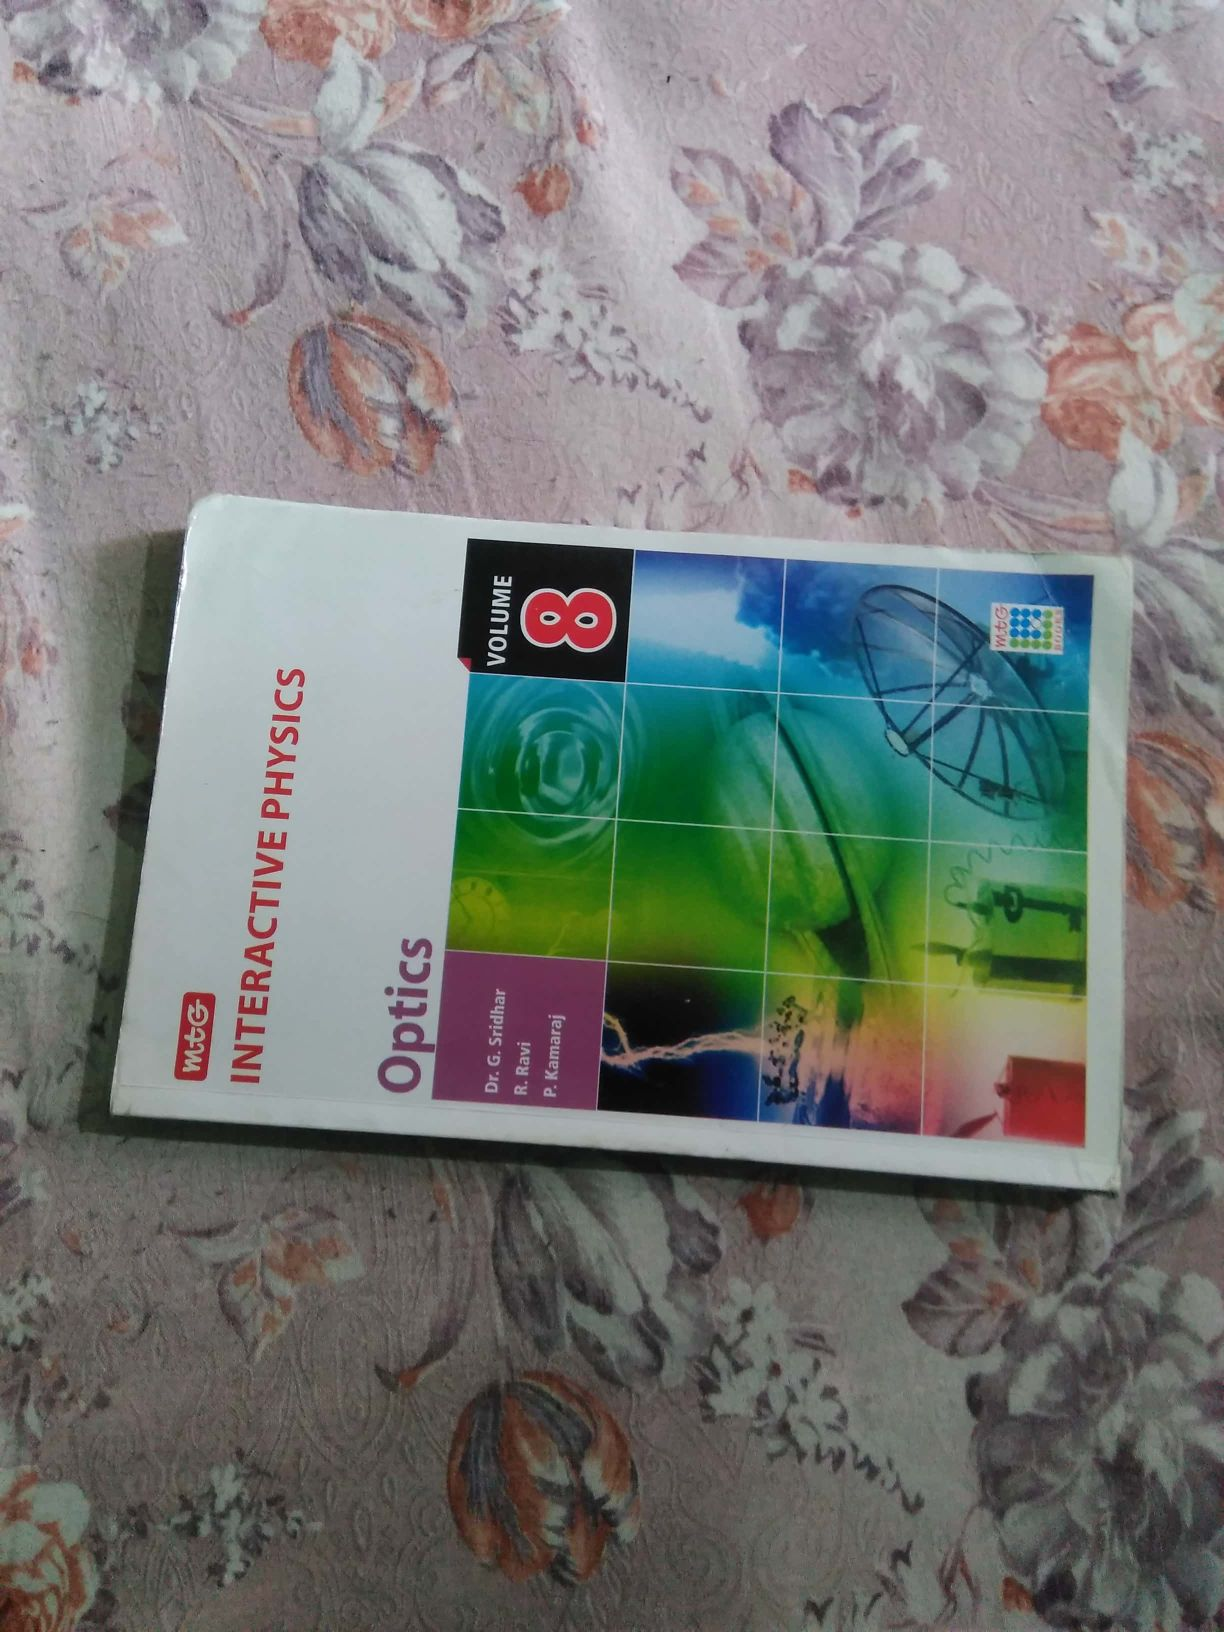optics: (71, 488, 1161, 1236)
